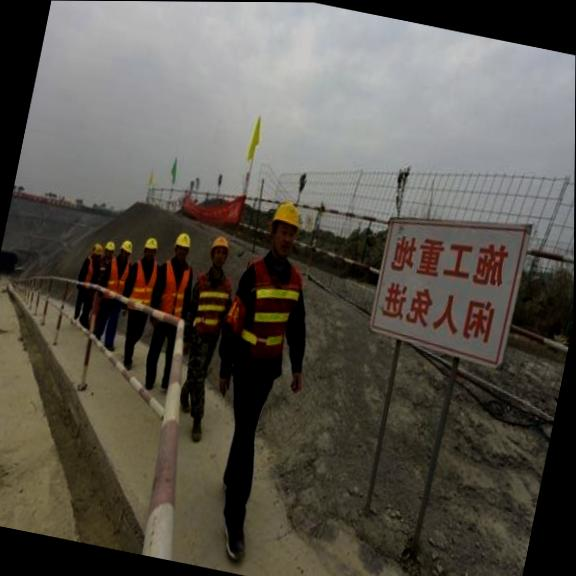safety_vest: (221, 249, 320, 370), (184, 267, 237, 339), (148, 256, 197, 324), (121, 254, 161, 312), (99, 256, 133, 302), (76, 255, 99, 287)
